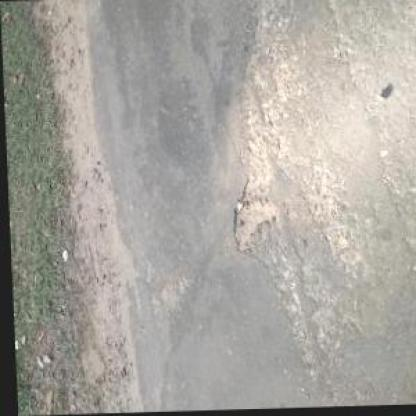pothole: (228, 193, 282, 254)
